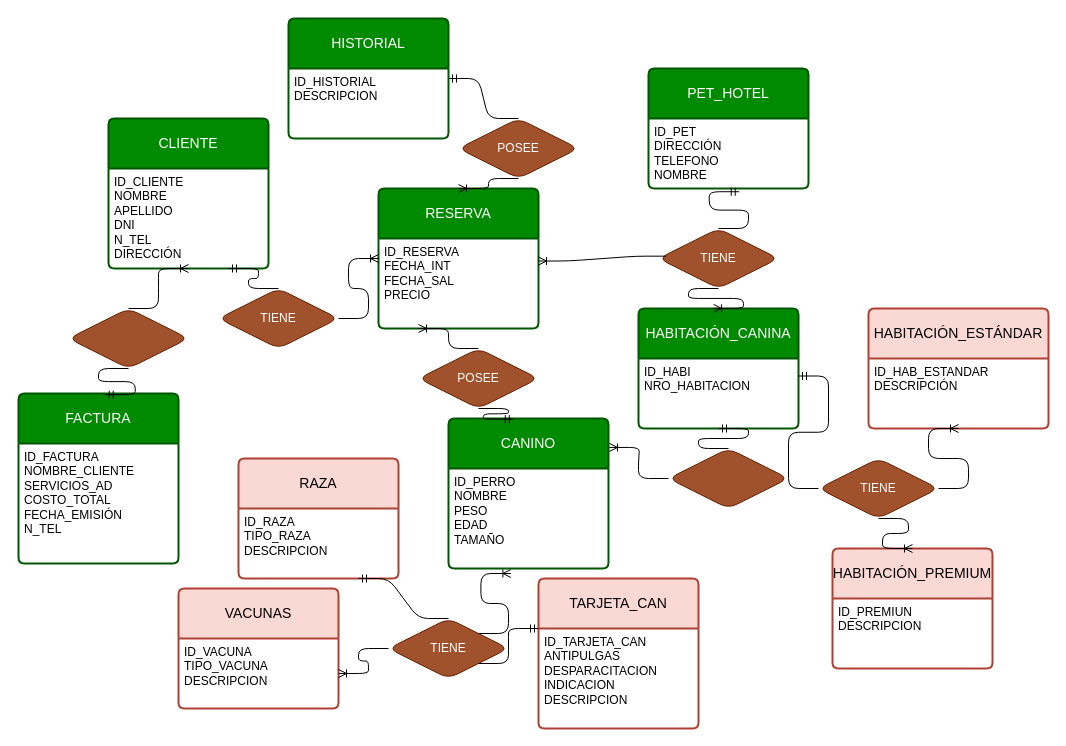
The diagram is 1066 pixels wide and 746 high, and some of its shapes have lost their labels. The centre of each missing label's shape, as x and y in pixels:
"HOSPEDA" goes at pixel 728 478.
"RECIBE" goes at pixel 128 338.
